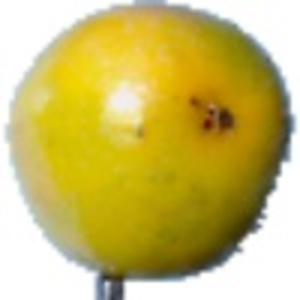maracujá: (7, 1, 299, 300)
